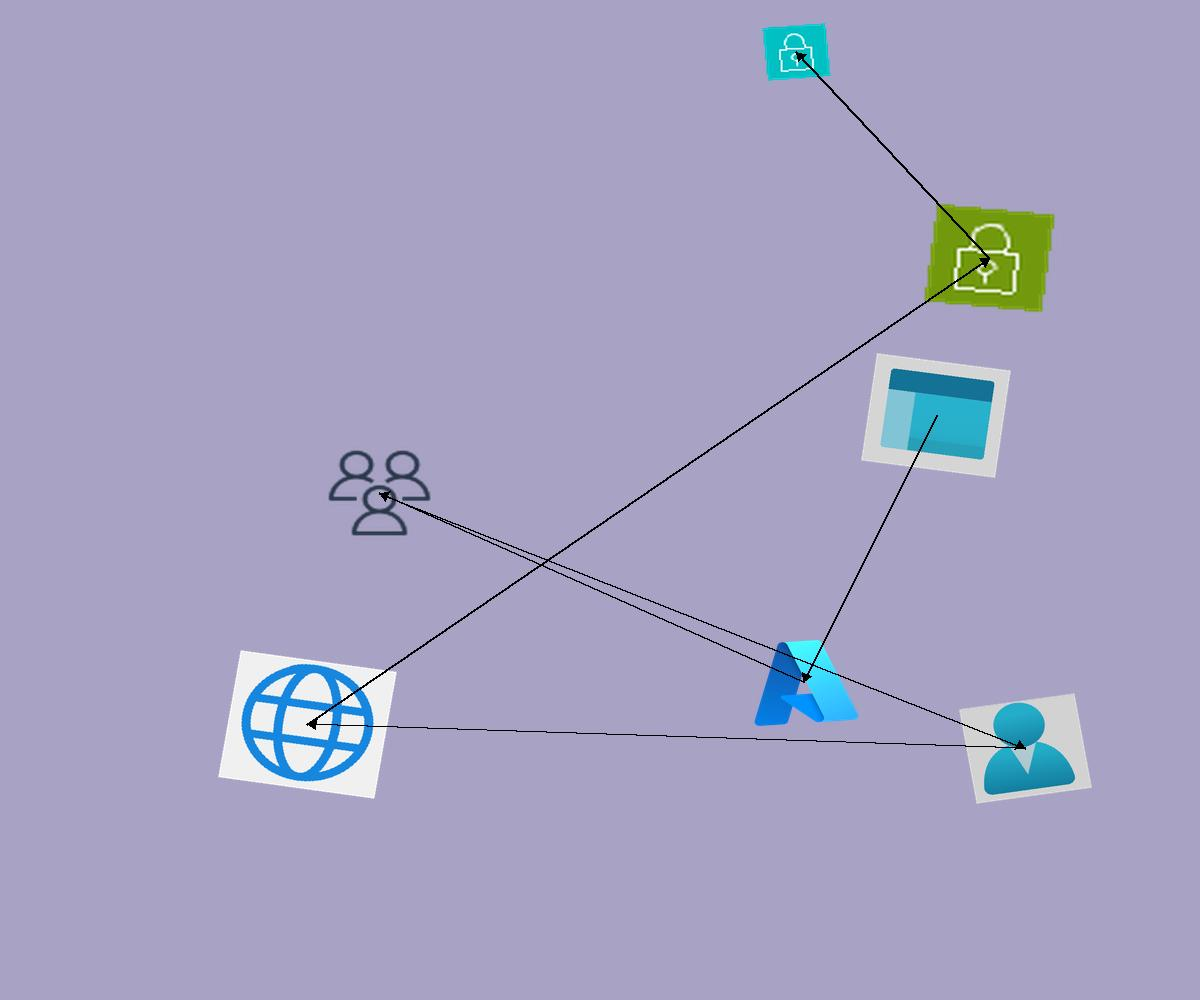AWS-Private-subnet: (762, 23, 831, 81)
AWS-Public-subnet: (922, 202, 1057, 314)
AWS-Res_Users: (322, 445, 437, 541)
Azure_http: (218, 650, 397, 799)
Azure_management-portal: (861, 353, 1011, 478)
Azure_services: (742, 631, 864, 733)
Azure_users: (959, 693, 1092, 804)
